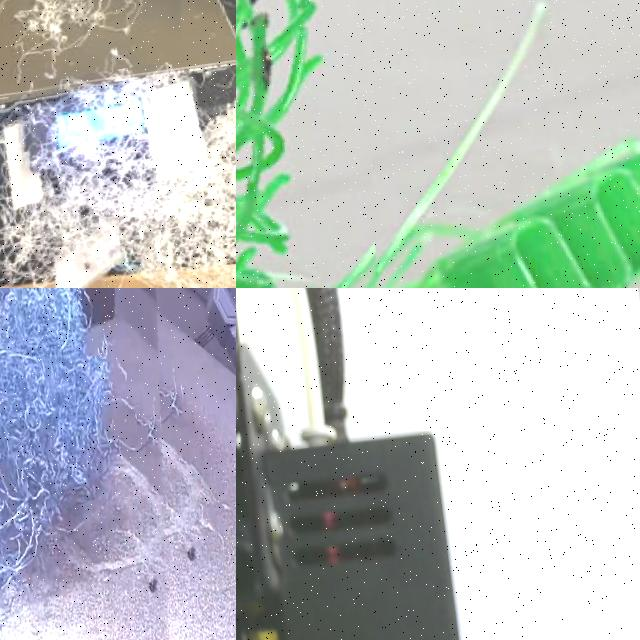spaghetti: (0, 288, 232, 640), (0, 52, 236, 288), (236, 0, 327, 288), (0, 0, 198, 93)
